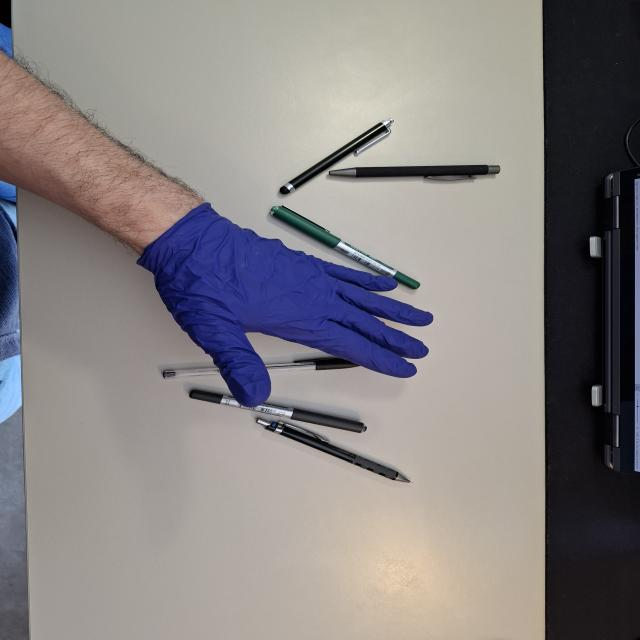glove_on: (135, 200, 437, 410)
